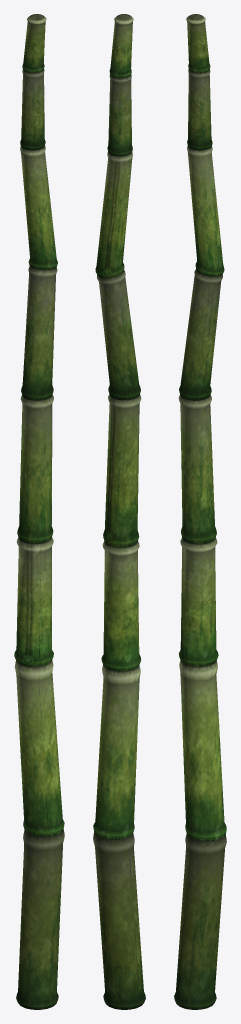
The model's file is BambooSet_part_13.fbx.
3 renders of one model, left to right at view 1: azimuth 30°, elevation 25°; view 2: azimuth 150°, elevation 25°; view 3: azimuth 330°, elevation 25°, orthographic.
Parts seen in each view (by area): view 1: Object_34.001; view 2: Object_34.001; view 3: Object_34.001.
Part boxes in pixels (x1,y1,x2,y2): Object_34.001: (14, 14, 64, 1009); Object_34.001: (93, 14, 145, 1009); Object_34.001: (174, 14, 226, 1009).
Bounding box in the file's own units: 133 × 2766 × 123.
